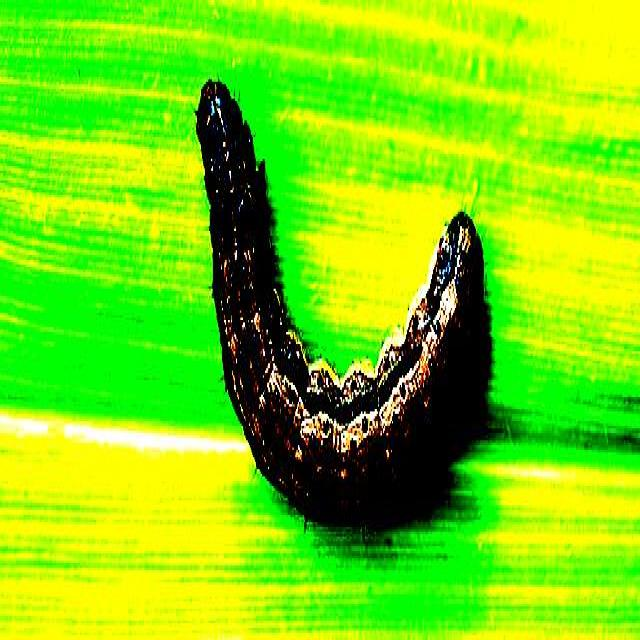Armyworm: (185, 38, 519, 583)
